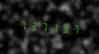nine: (58, 20, 67, 35)
one: (48, 19, 57, 34)
seven: (17, 17, 26, 32), (38, 19, 47, 33), (68, 21, 77, 35)
three: (27, 18, 36, 33)
